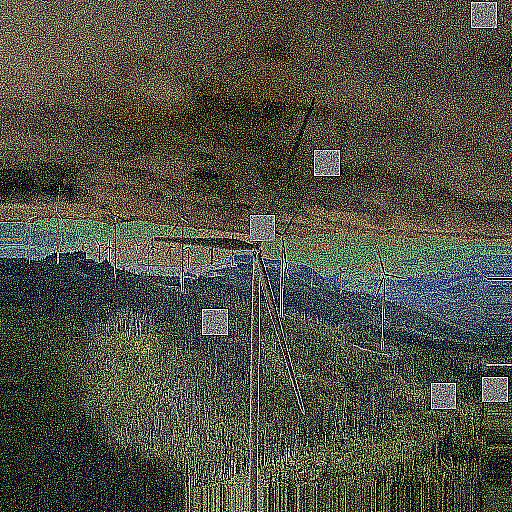wind turbine: (149, 97, 315, 503), (364, 245, 407, 349)
